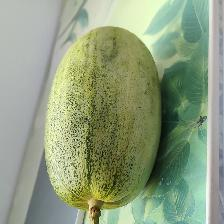gua: (49, 41, 138, 208)
